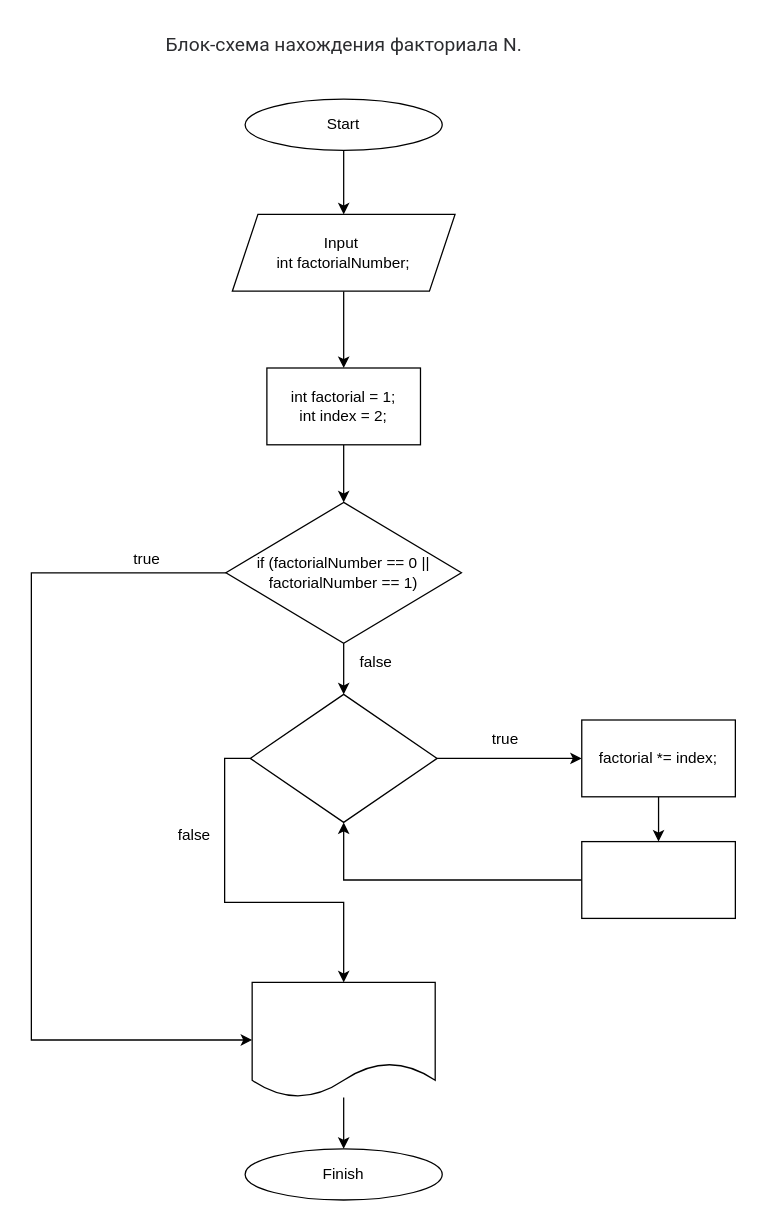
This 758x1222 diagram has some shape labels left out. Each missing label, with the centre of its shape:
index++;: (x=657, y=879)
Print(factorial);: (x=343, y=1039)
while (index < factorialNumber): (x=343, y=757)
